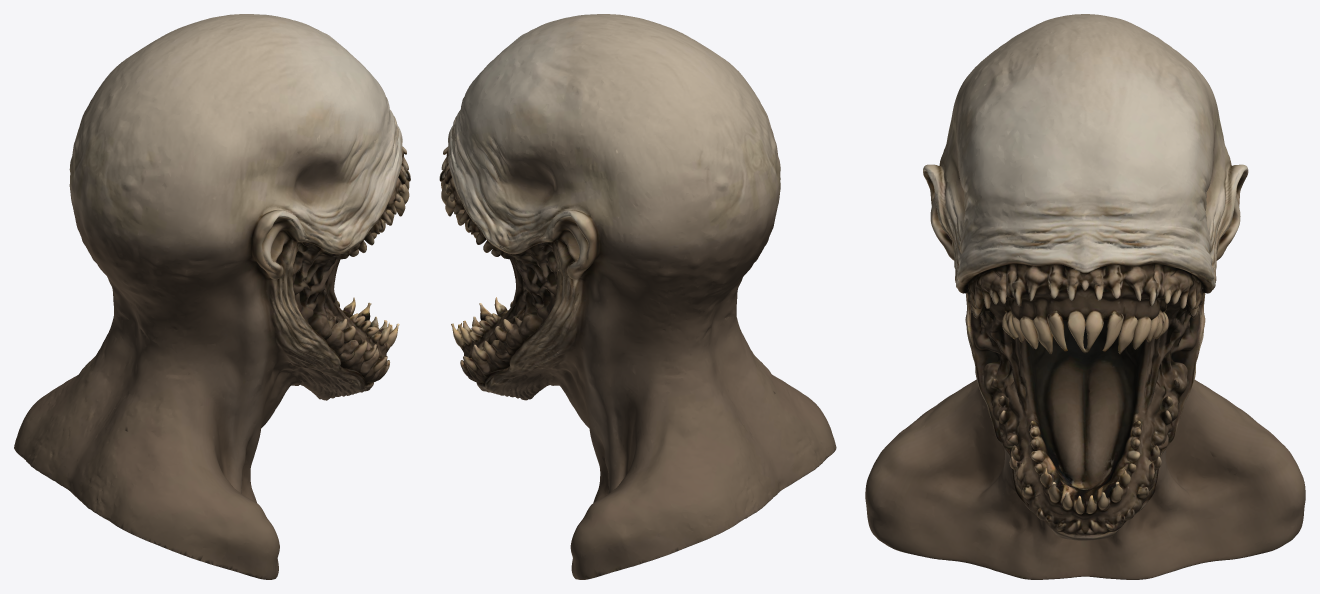
3 renders of one model, left to right at view 1: azimuth 30°, elevation 25°; view 2: azimuth 150°, elevation 25°; view 3: azimuth 270°, elevation 25°, orthographic. The views are drawn at different scales.
Parts seen in each view (by area): view 1: tripo_node_f2c5534d; view 2: tripo_node_f2c5534d; view 3: tripo_node_f2c5534d.
Boxes of the visible parts, box(x1,y1,x2,y2) form: tripo_node_f2c5534d: box(14, 14, 410, 579); tripo_node_f2c5534d: box(439, 14, 836, 579); tripo_node_f2c5534d: box(865, 14, 1305, 579).
Size of the model in its own units: 0.7378 by 1 by 0.7367.
1 material, 1 textured.
